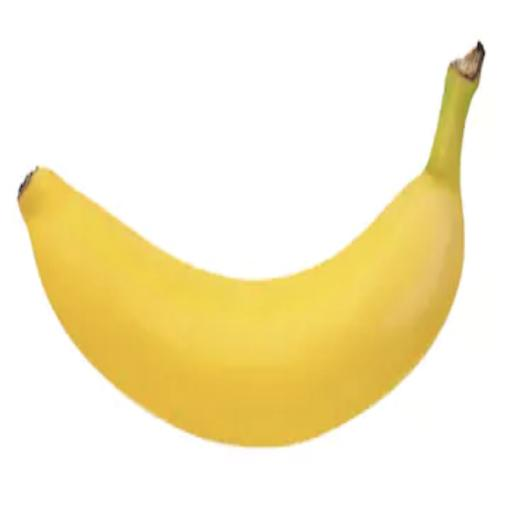banana: (19, 44, 483, 445)
